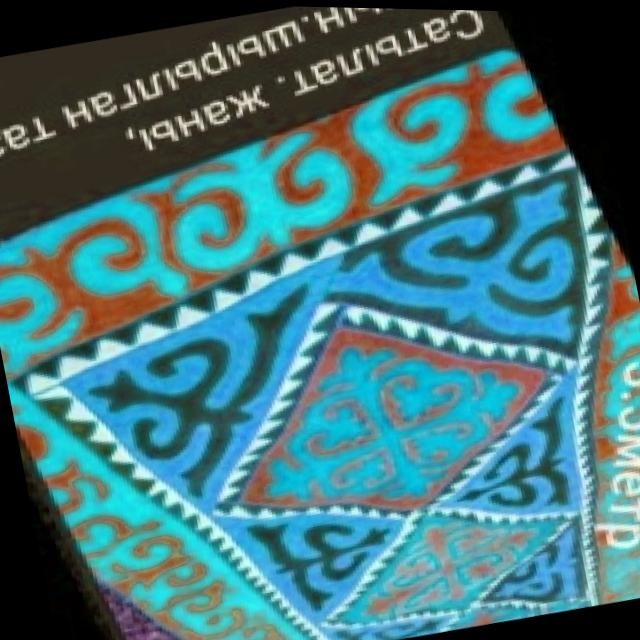Unity: (246, 334, 537, 504)
